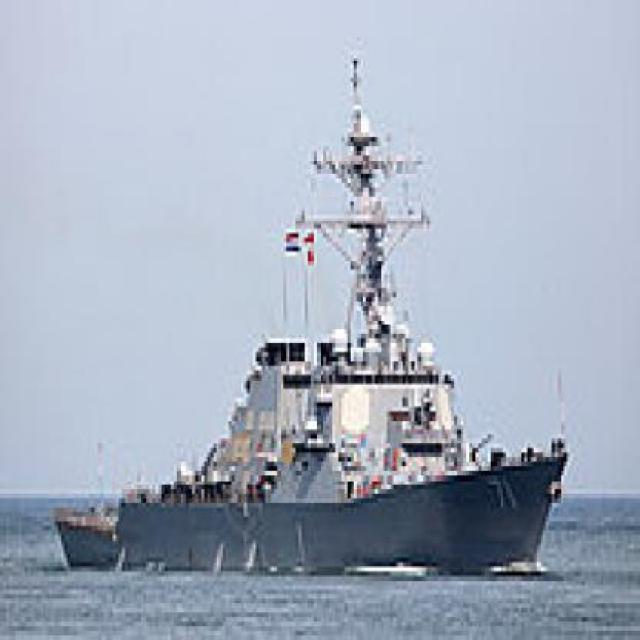warship2: (37, 70, 583, 596)
